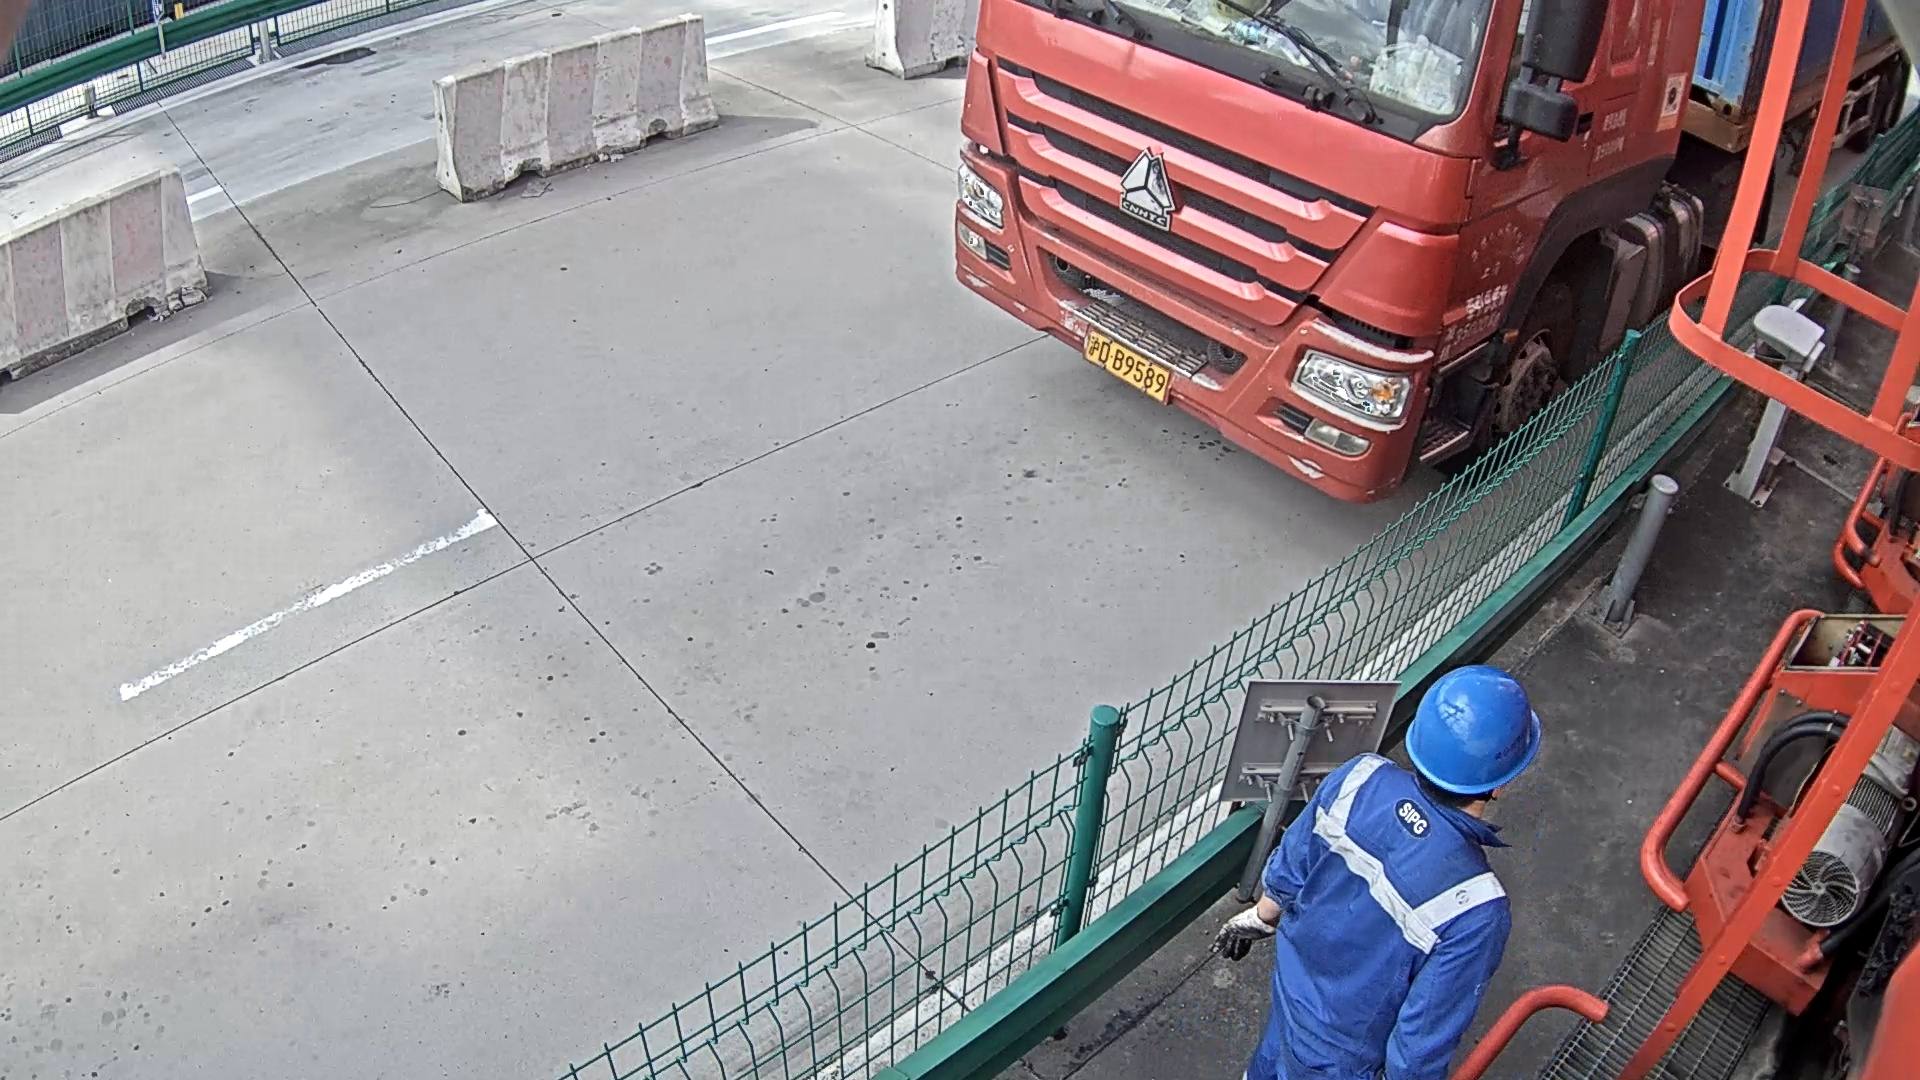head: (971, 1, 1714, 501)
plate: (1085, 329, 1165, 400)
